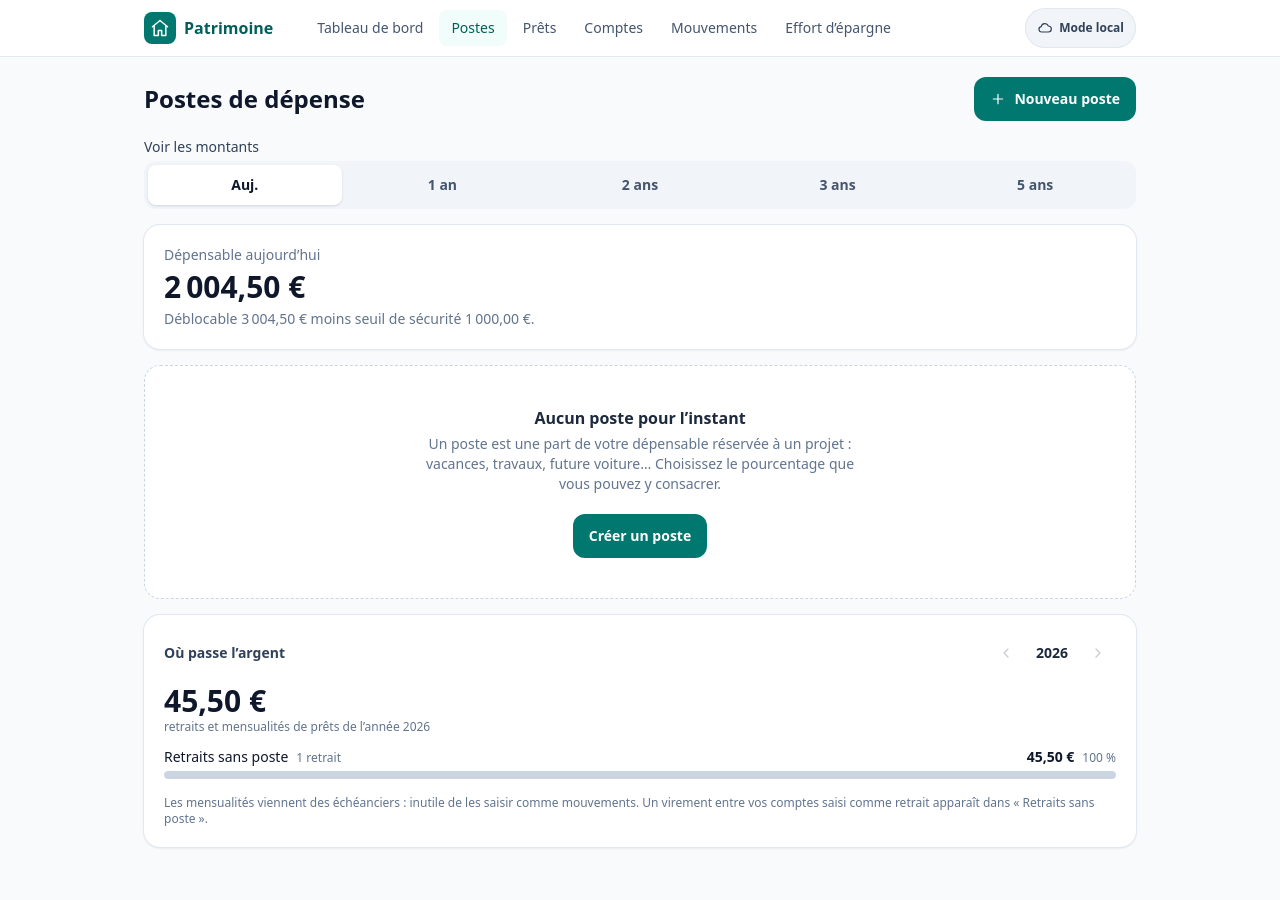
Test: Postes de dépense › crée un poste, montre l’aperçu du montant puis la répartition
Click the button "Nouveau poste". click: (1055, 99)
box: [974,77,1136,121]
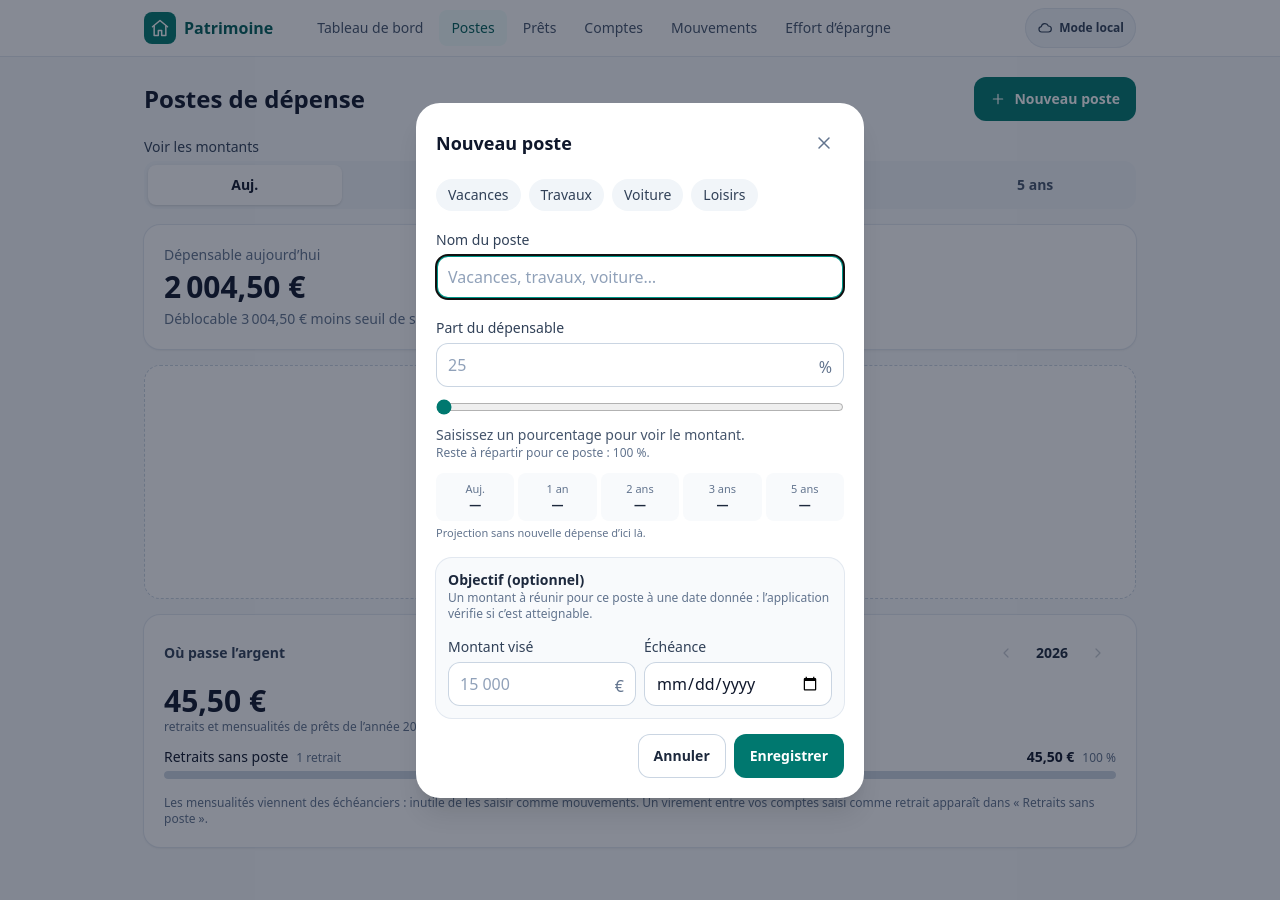
Click the button "Vacances". click: (478, 194)
box: [436,178,520,210]
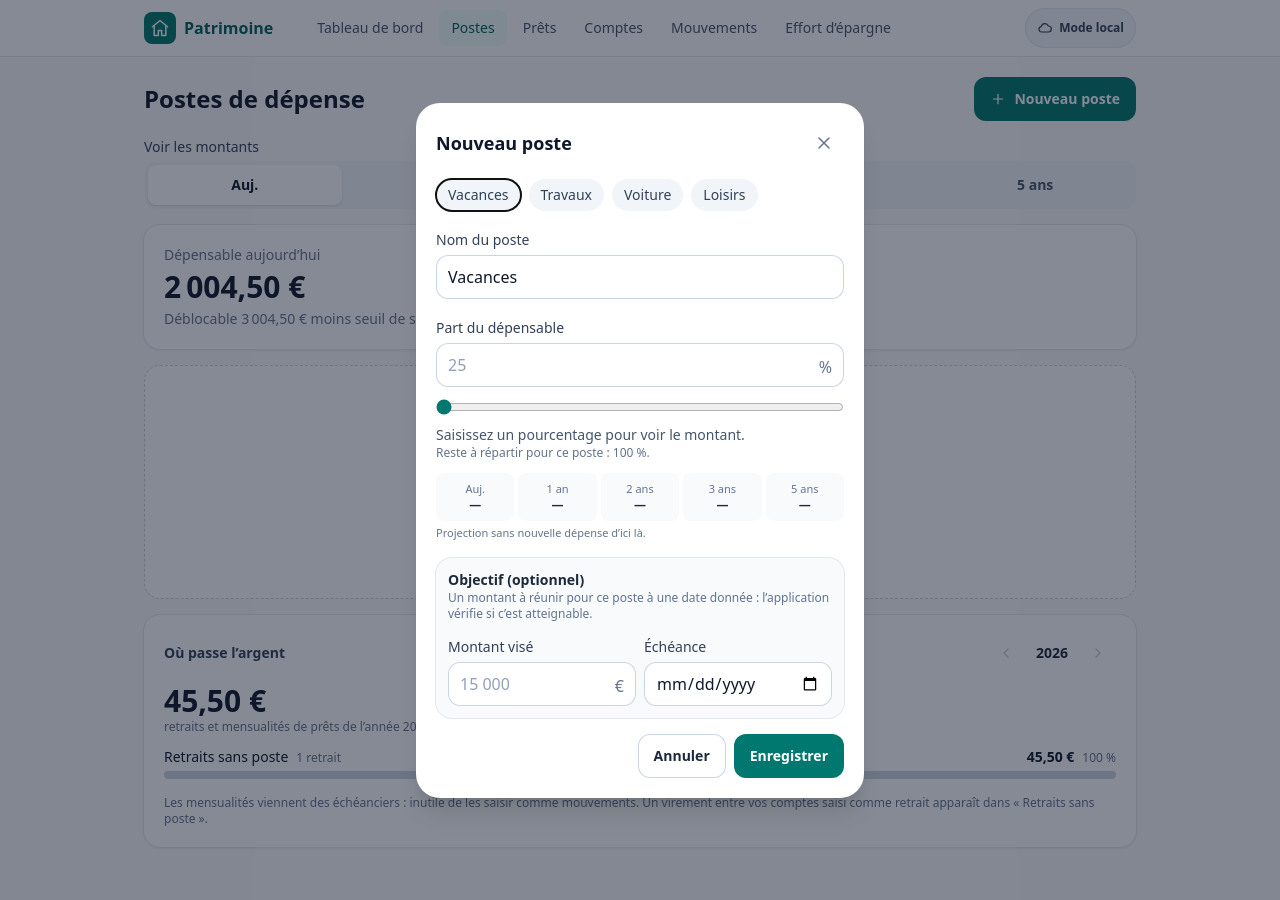
Expected: the field labelled "Nom du poste" holds "Vacances", [436,254,844,298]
Type "30" into the field labelled "Part du dépensable %". click: (640, 364)
box: [436,342,844,386]
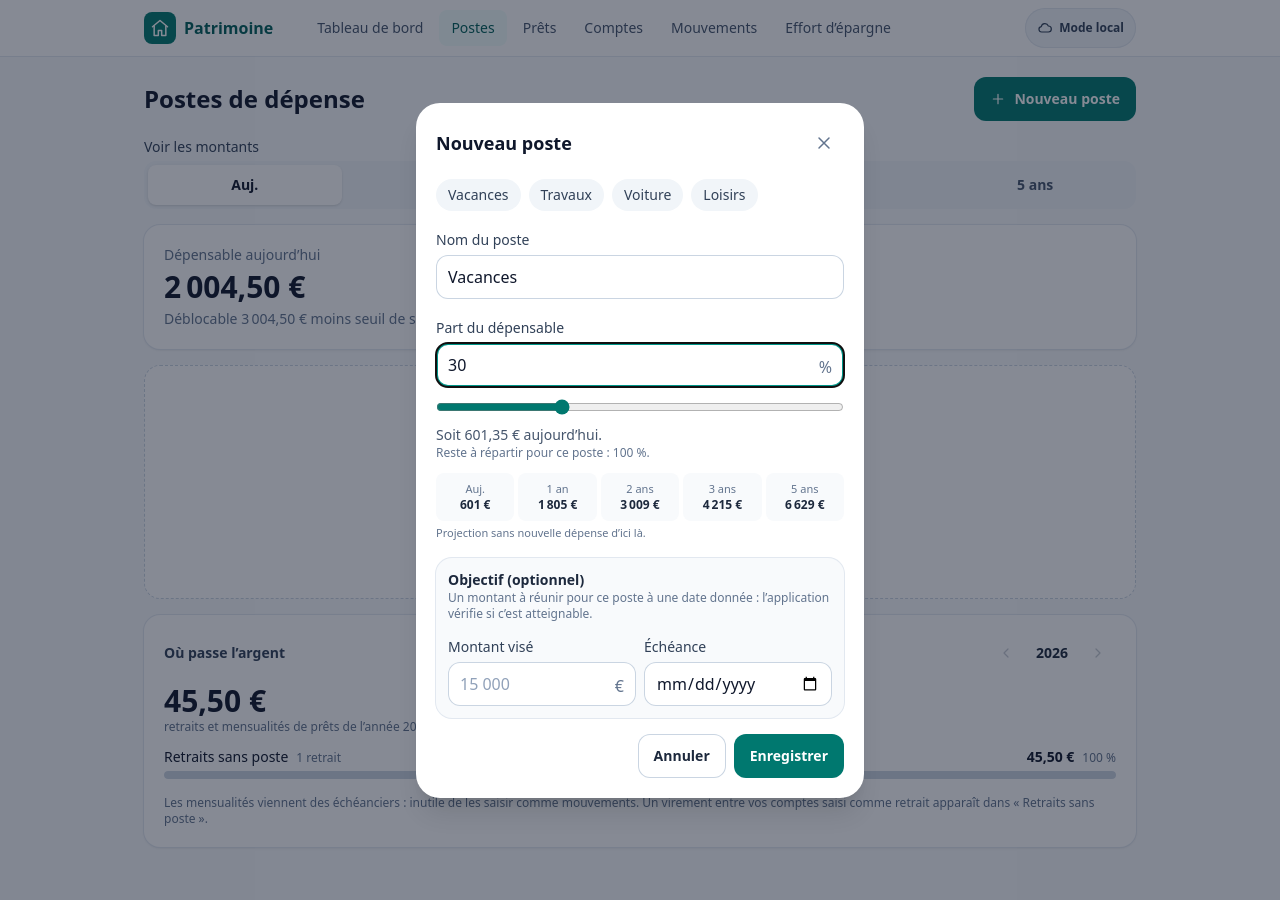
Click the button "Enregistrer". click: (789, 756)
box: [734,734,844,778]
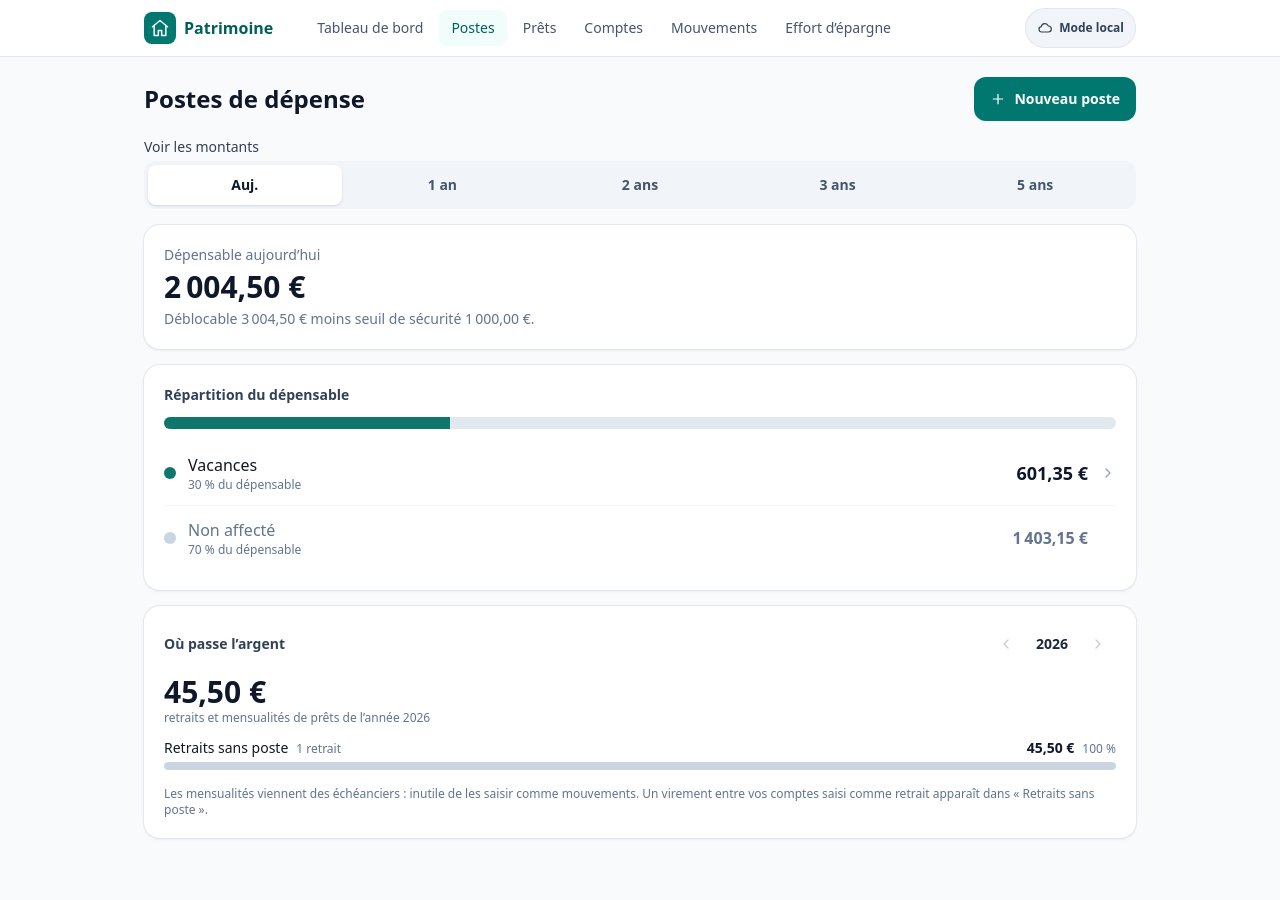
Expected: the text "30 % du dépensable" is shown, [188,476,301,493]
Expected: the text "70 % du dépensable" is shown, [188,541,301,558]
Expected: the picture named "vacances 30 %, non affecté 70 %" is shown, [164,417,1116,429]
